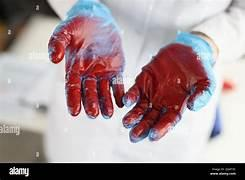Glove: (123, 32, 214, 141), (48, 0, 123, 117)
